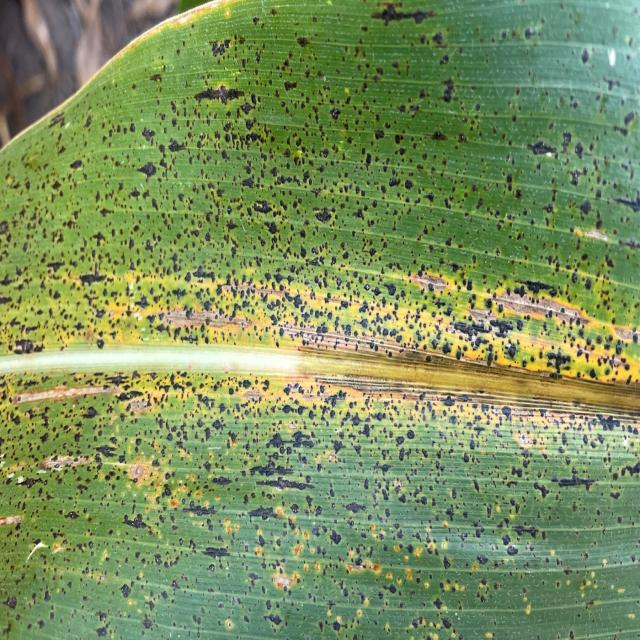Tar_Spot: (23, 51, 640, 628)
